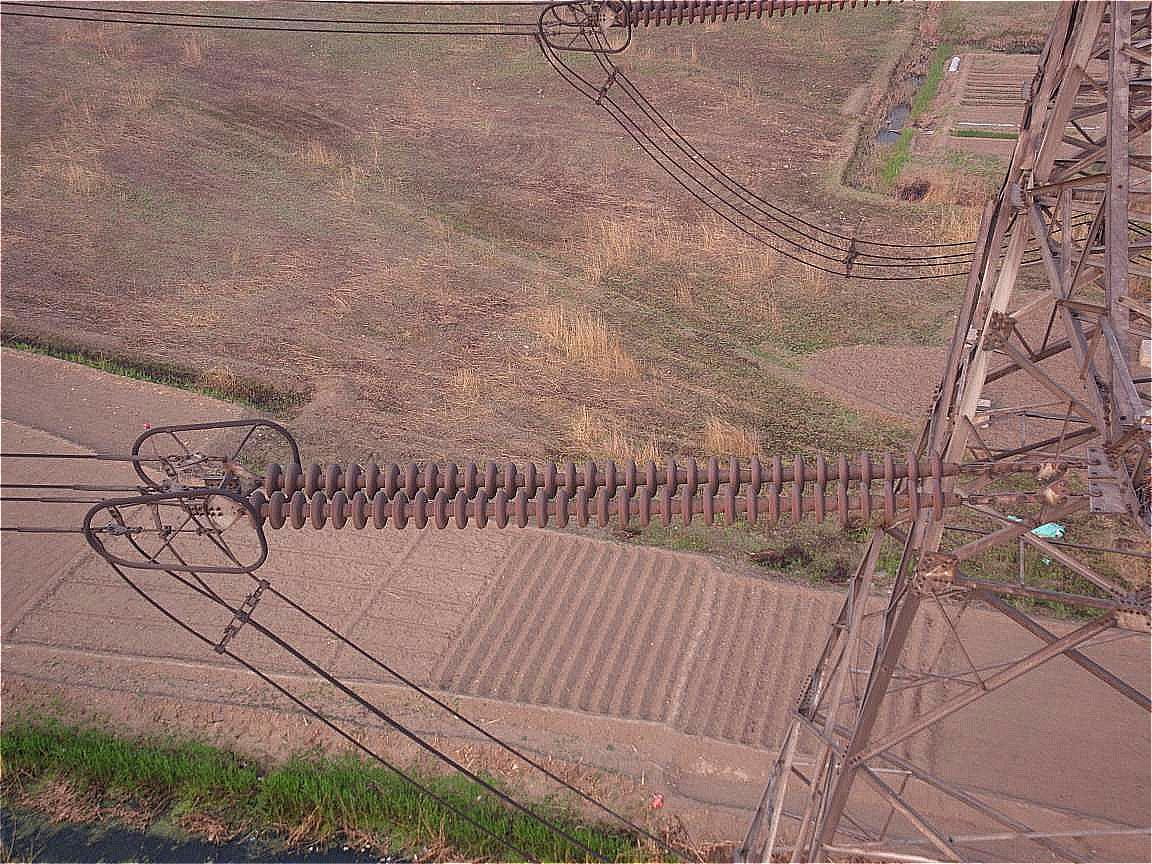insultor1: (199, 404, 969, 561)
